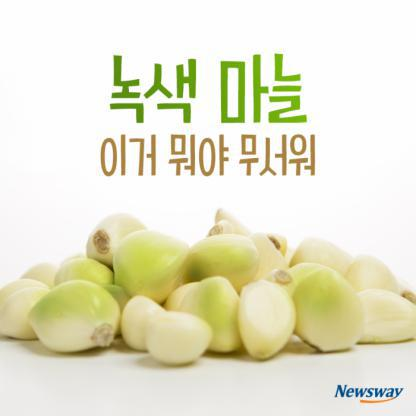garlic: (346, 245, 416, 350), (292, 264, 360, 353), (116, 292, 206, 358), (30, 276, 116, 342), (229, 272, 295, 358), (113, 228, 180, 294), (192, 225, 275, 275)
